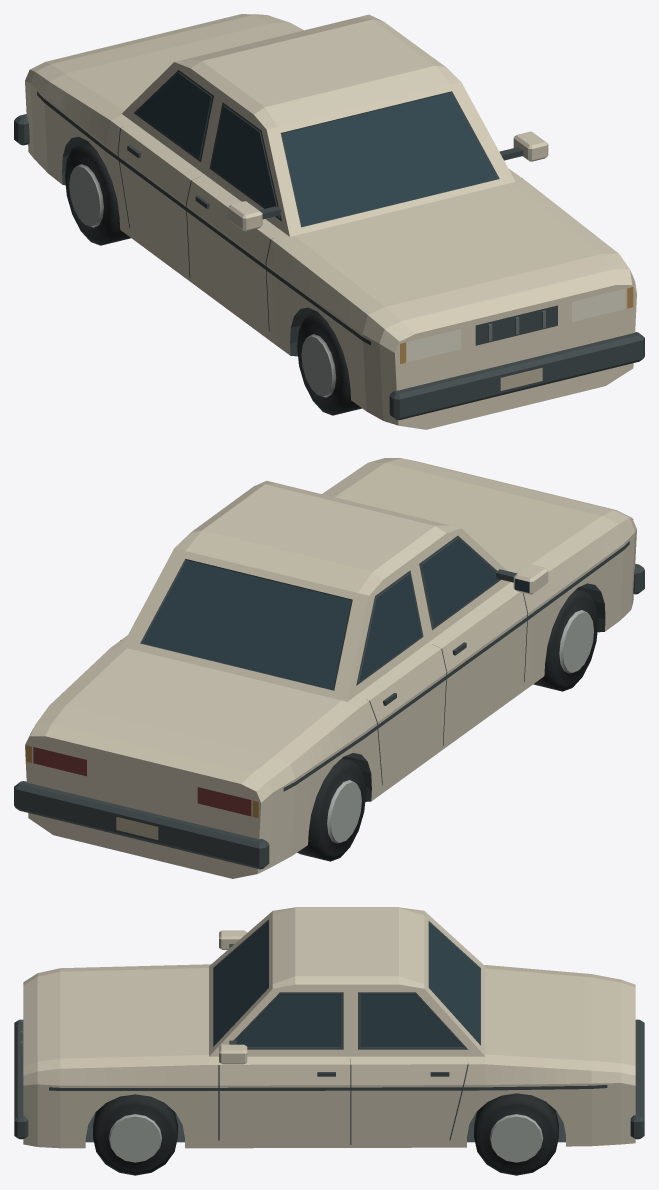
The model's file is Compact_Sedan.fbx.
3 views of the same model, one above another, from view 1: azimuth 30°, elevation 25°; view 2: azimuth 150°, elevation 25°; view 3: azimuth 270°, elevation 25° (orthographic). The views are drawn at different scales.
Visible parts, largest first — view 1: Sedan_Body, Compact_Sedan_Cabin, Compact_Sedan_Bumpers, Compact_Sedan_Lights_Grille_Plates, Sedan_Wheel_Rear_Left, Sedan_Wheel_Front_Left, Compact_Sedan_Door_Trim, Compact_Sedan_Mirrors; view 2: Sedan_Body, Compact_Sedan_Cabin, Compact_Sedan_Bumpers, Sedan_Wheel_Rear_Left, Sedan_Wheel_Front_Left, Compact_Sedan_Lights_Grille_Plates, Compact_Sedan_Door_Trim, Compact_Sedan_Mirrors; view 3: Sedan_Body, Compact_Sedan_Cabin, Sedan_Wheel_Rear_Right, Sedan_Wheel_Front_Right, Compact_Sedan_Door_Trim, Compact_Sedan_Bumpers, Compact_Sedan_Mirrors.
Part boxes in pixels (left/top/right/bottom): Sedan_Body: left=25, top=14, right=636, bottom=429; Compact_Sedan_Cabin: left=122, top=14, right=515, bottom=236; Compact_Sedan_Bumpers: left=14, top=114, right=644, bottom=420; Compact_Sedan_Lights_Grille_Plates: left=400, top=287, right=633, bottom=393; Sedan_Wheel_Rear_Left: left=65, top=142, right=130, bottom=245; Sedan_Wheel_Front_Left: left=297, top=313, right=361, bottom=415; Compact_Sedan_Door_Trim: left=37, top=91, right=522, bottom=345; Compact_Sedan_Mirrors: left=228, top=131, right=548, bottom=231; Sedan_Body: left=25, top=458, right=636, bottom=878; Compact_Sedan_Cabin: left=122, top=480, right=510, bottom=701; Compact_Sedan_Bumpers: left=14, top=564, right=644, bottom=869; Sedan_Wheel_Rear_Left: left=297, top=758, right=366, bottom=861; Sedan_Wheel_Front_Left: left=533, top=589, right=598, bottom=691; Compact_Sedan_Lights_Grille_Plates: left=26, top=519, right=633, bottom=842; Compact_Sedan_Door_Trim: left=120, top=541, right=629, bottom=791; Compact_Sedan_Mirrors: left=495, top=564, right=548, bottom=594; Sedan_Body: left=23, top=964, right=635, bottom=1148; Compact_Sedan_Cabin: left=209, top=907, right=485, bottom=1056; Sedan_Wheel_Rear_Right: left=474, top=1093, right=558, bottom=1175; Sedan_Wheel_Front_Right: left=93, top=1094, right=177, bottom=1175; Compact_Sedan_Door_Trim: left=49, top=1059, right=607, bottom=1144; Compact_Sedan_Bumpers: left=14, top=1019, right=644, bottom=1139; Compact_Sedan_Mirrors: left=219, top=930, right=247, bottom=1064.
Size of the model in its own units: 2.05 by 1.43 by 4.45.
